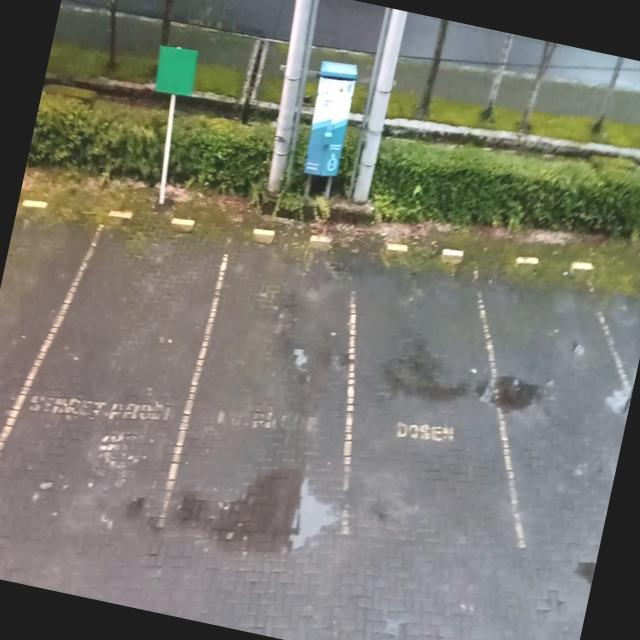free: (157, 220, 397, 574), (0, 199, 232, 548), (308, 235, 542, 571), (451, 247, 640, 572), (0, 193, 81, 523)
